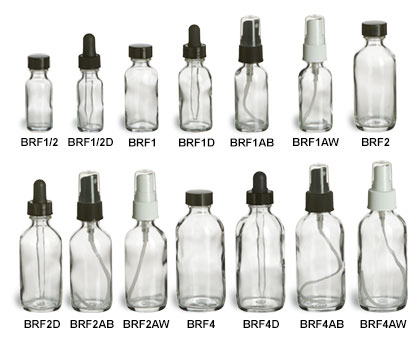glass_bottle: (290, 163, 350, 314), (356, 157, 410, 314), (233, 169, 288, 316), (348, 15, 413, 137), (170, 185, 229, 315), (121, 167, 172, 316), (66, 168, 116, 316), (14, 174, 65, 316), (292, 12, 335, 136), (230, 13, 272, 135), (172, 20, 215, 136), (119, 41, 163, 134), (71, 29, 109, 134), (20, 51, 63, 135)
